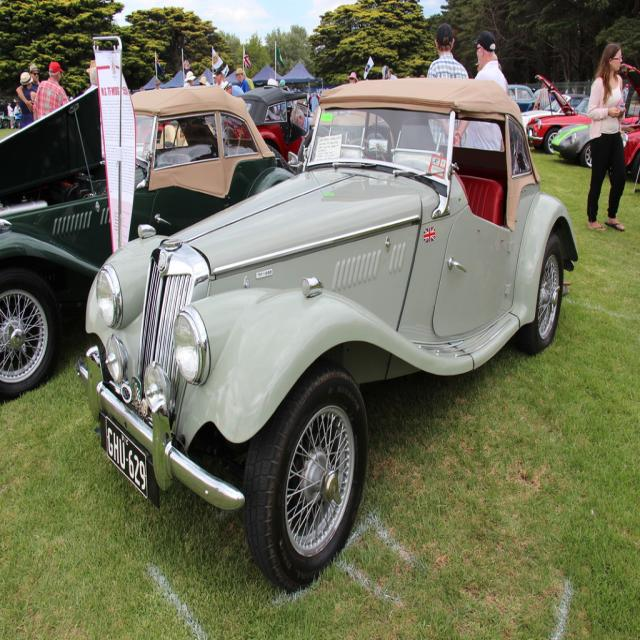car: (78, 78, 584, 580)
